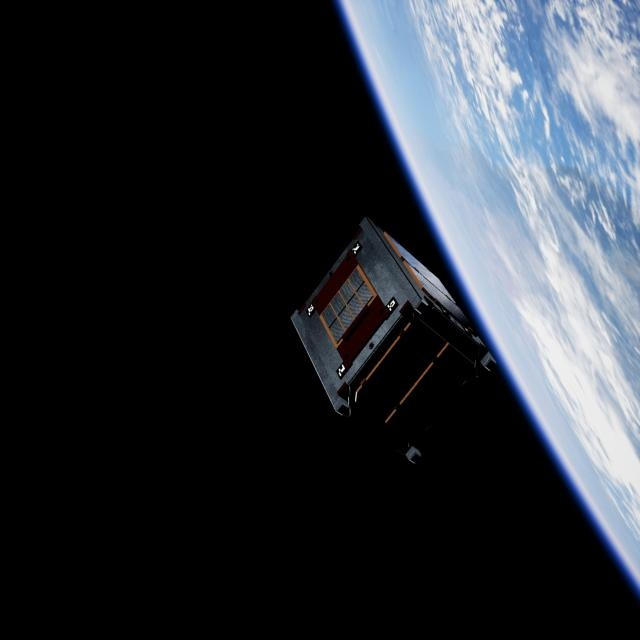medium_debris: (288, 215, 500, 467)
